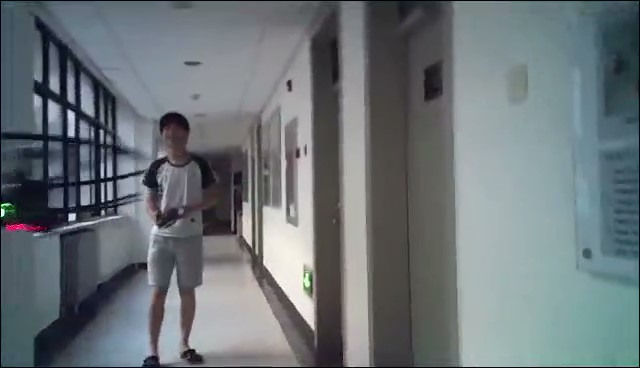drone: (1, 131, 155, 237)
person: (142, 110, 229, 368)
